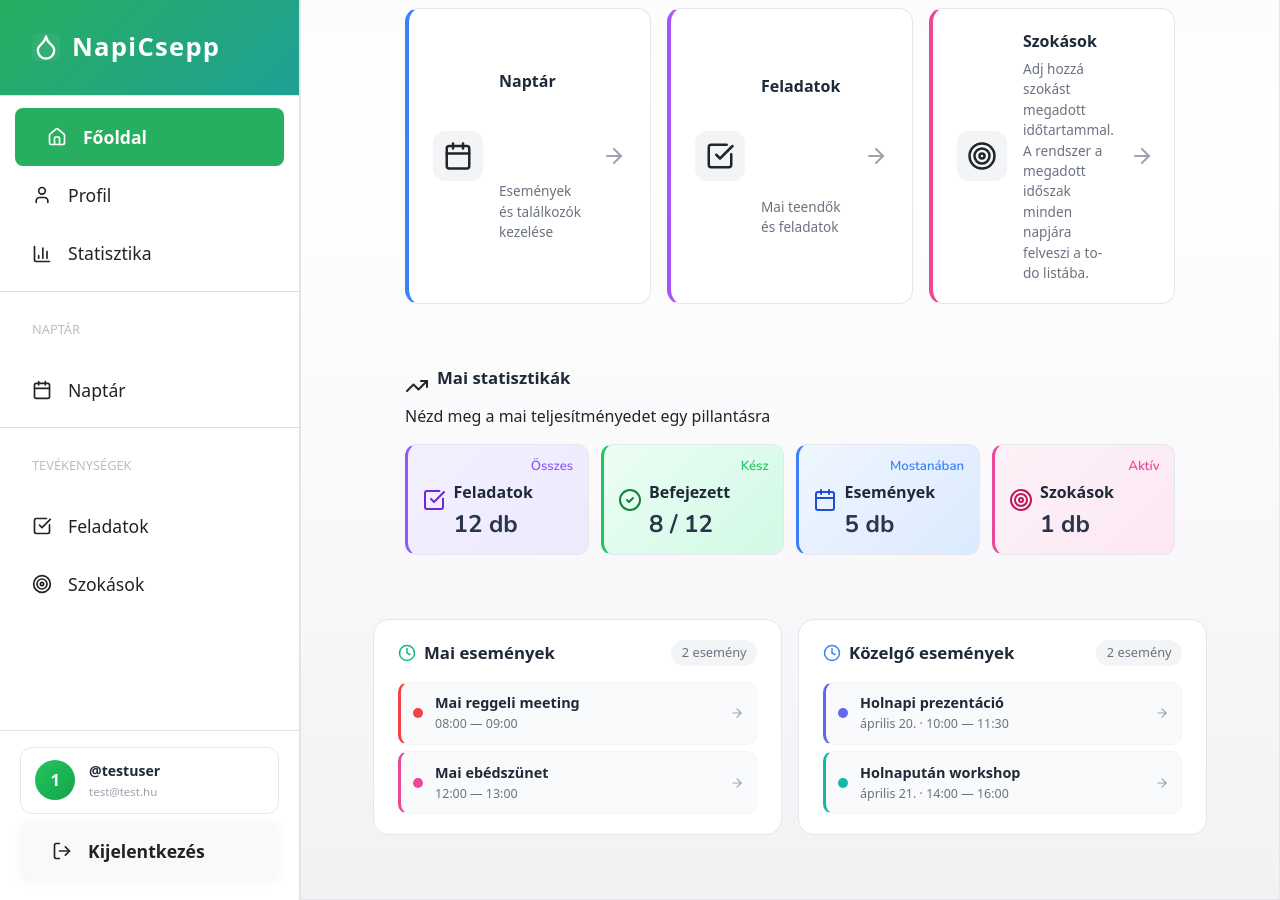
Test: Homepage — Mai események lista › 9 - Mini popup Szerkesztés megnyitja az EventPopupot
(page scrolled)
Click the element with class "upcoming-event-item" that starts with "Mai reggeli meeting" at (578, 714), box [398, 682, 757, 745]
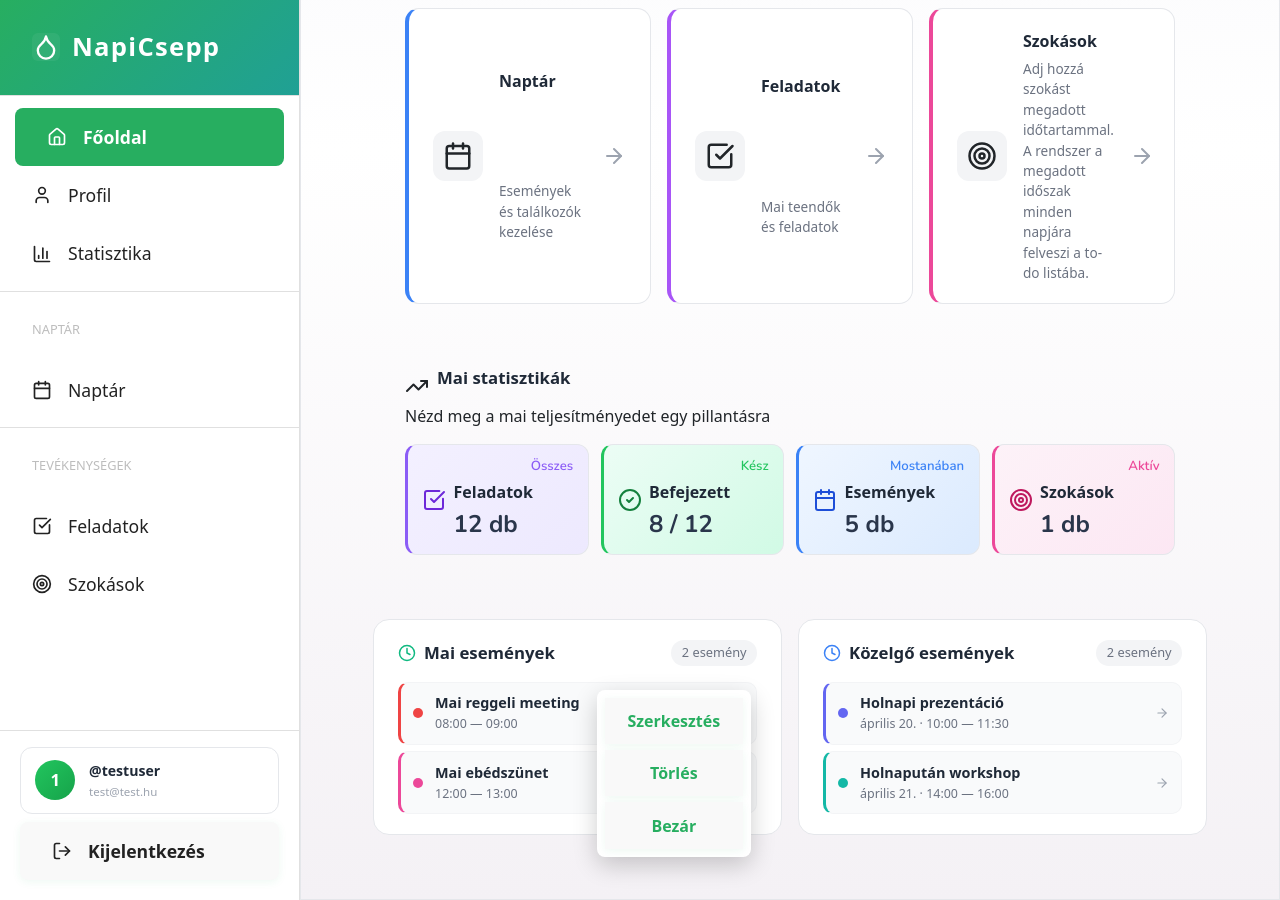
Click the button "Szerkesztés" at (674, 721), box [605, 698, 743, 744]
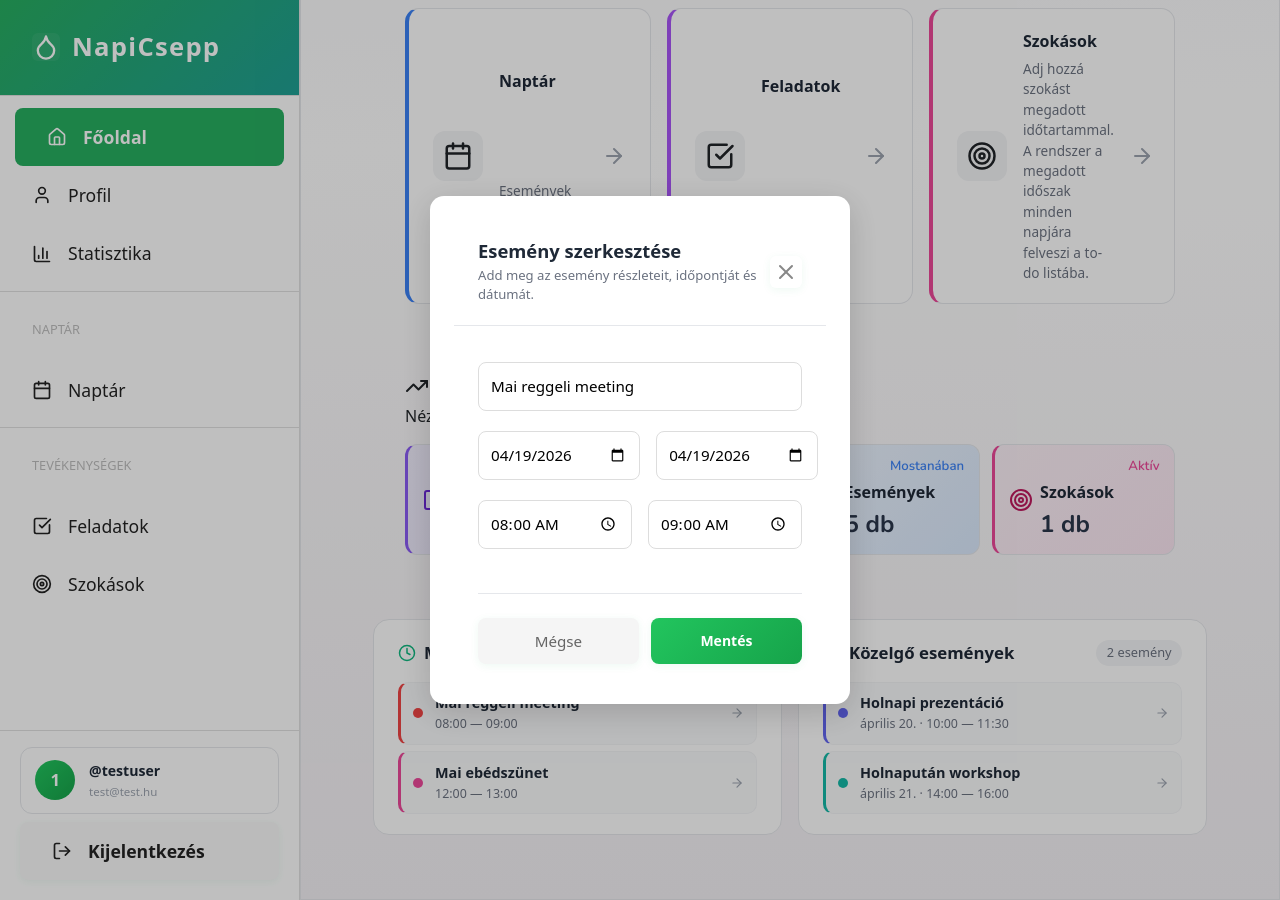
Expected: the form is shown, [454, 342, 826, 684]
